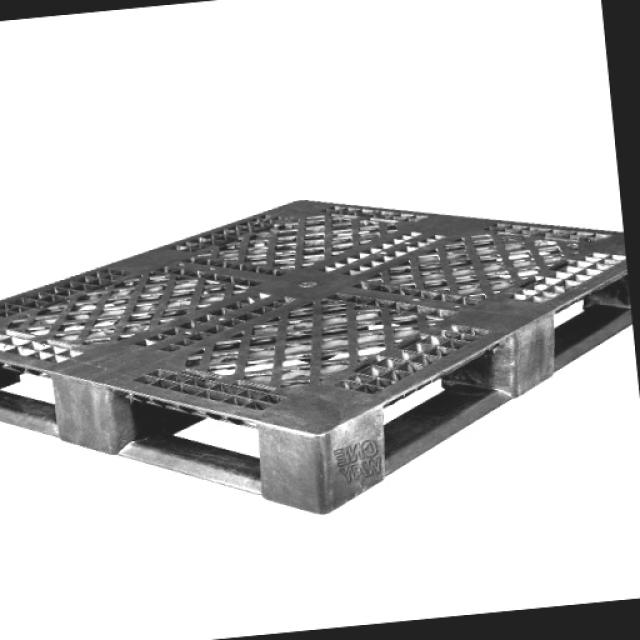non-igps: (0, 196, 636, 519)
